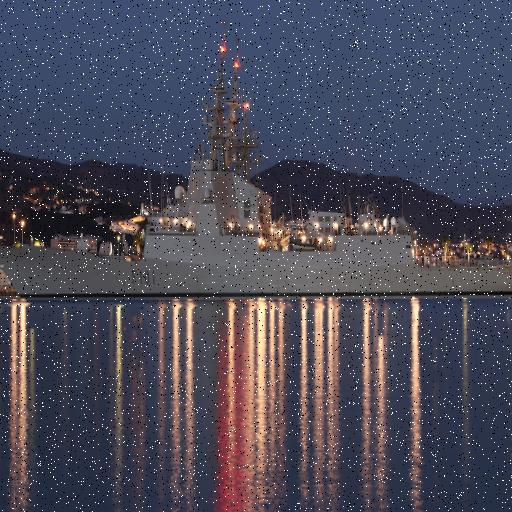Fragata: (1, 16, 512, 302)
